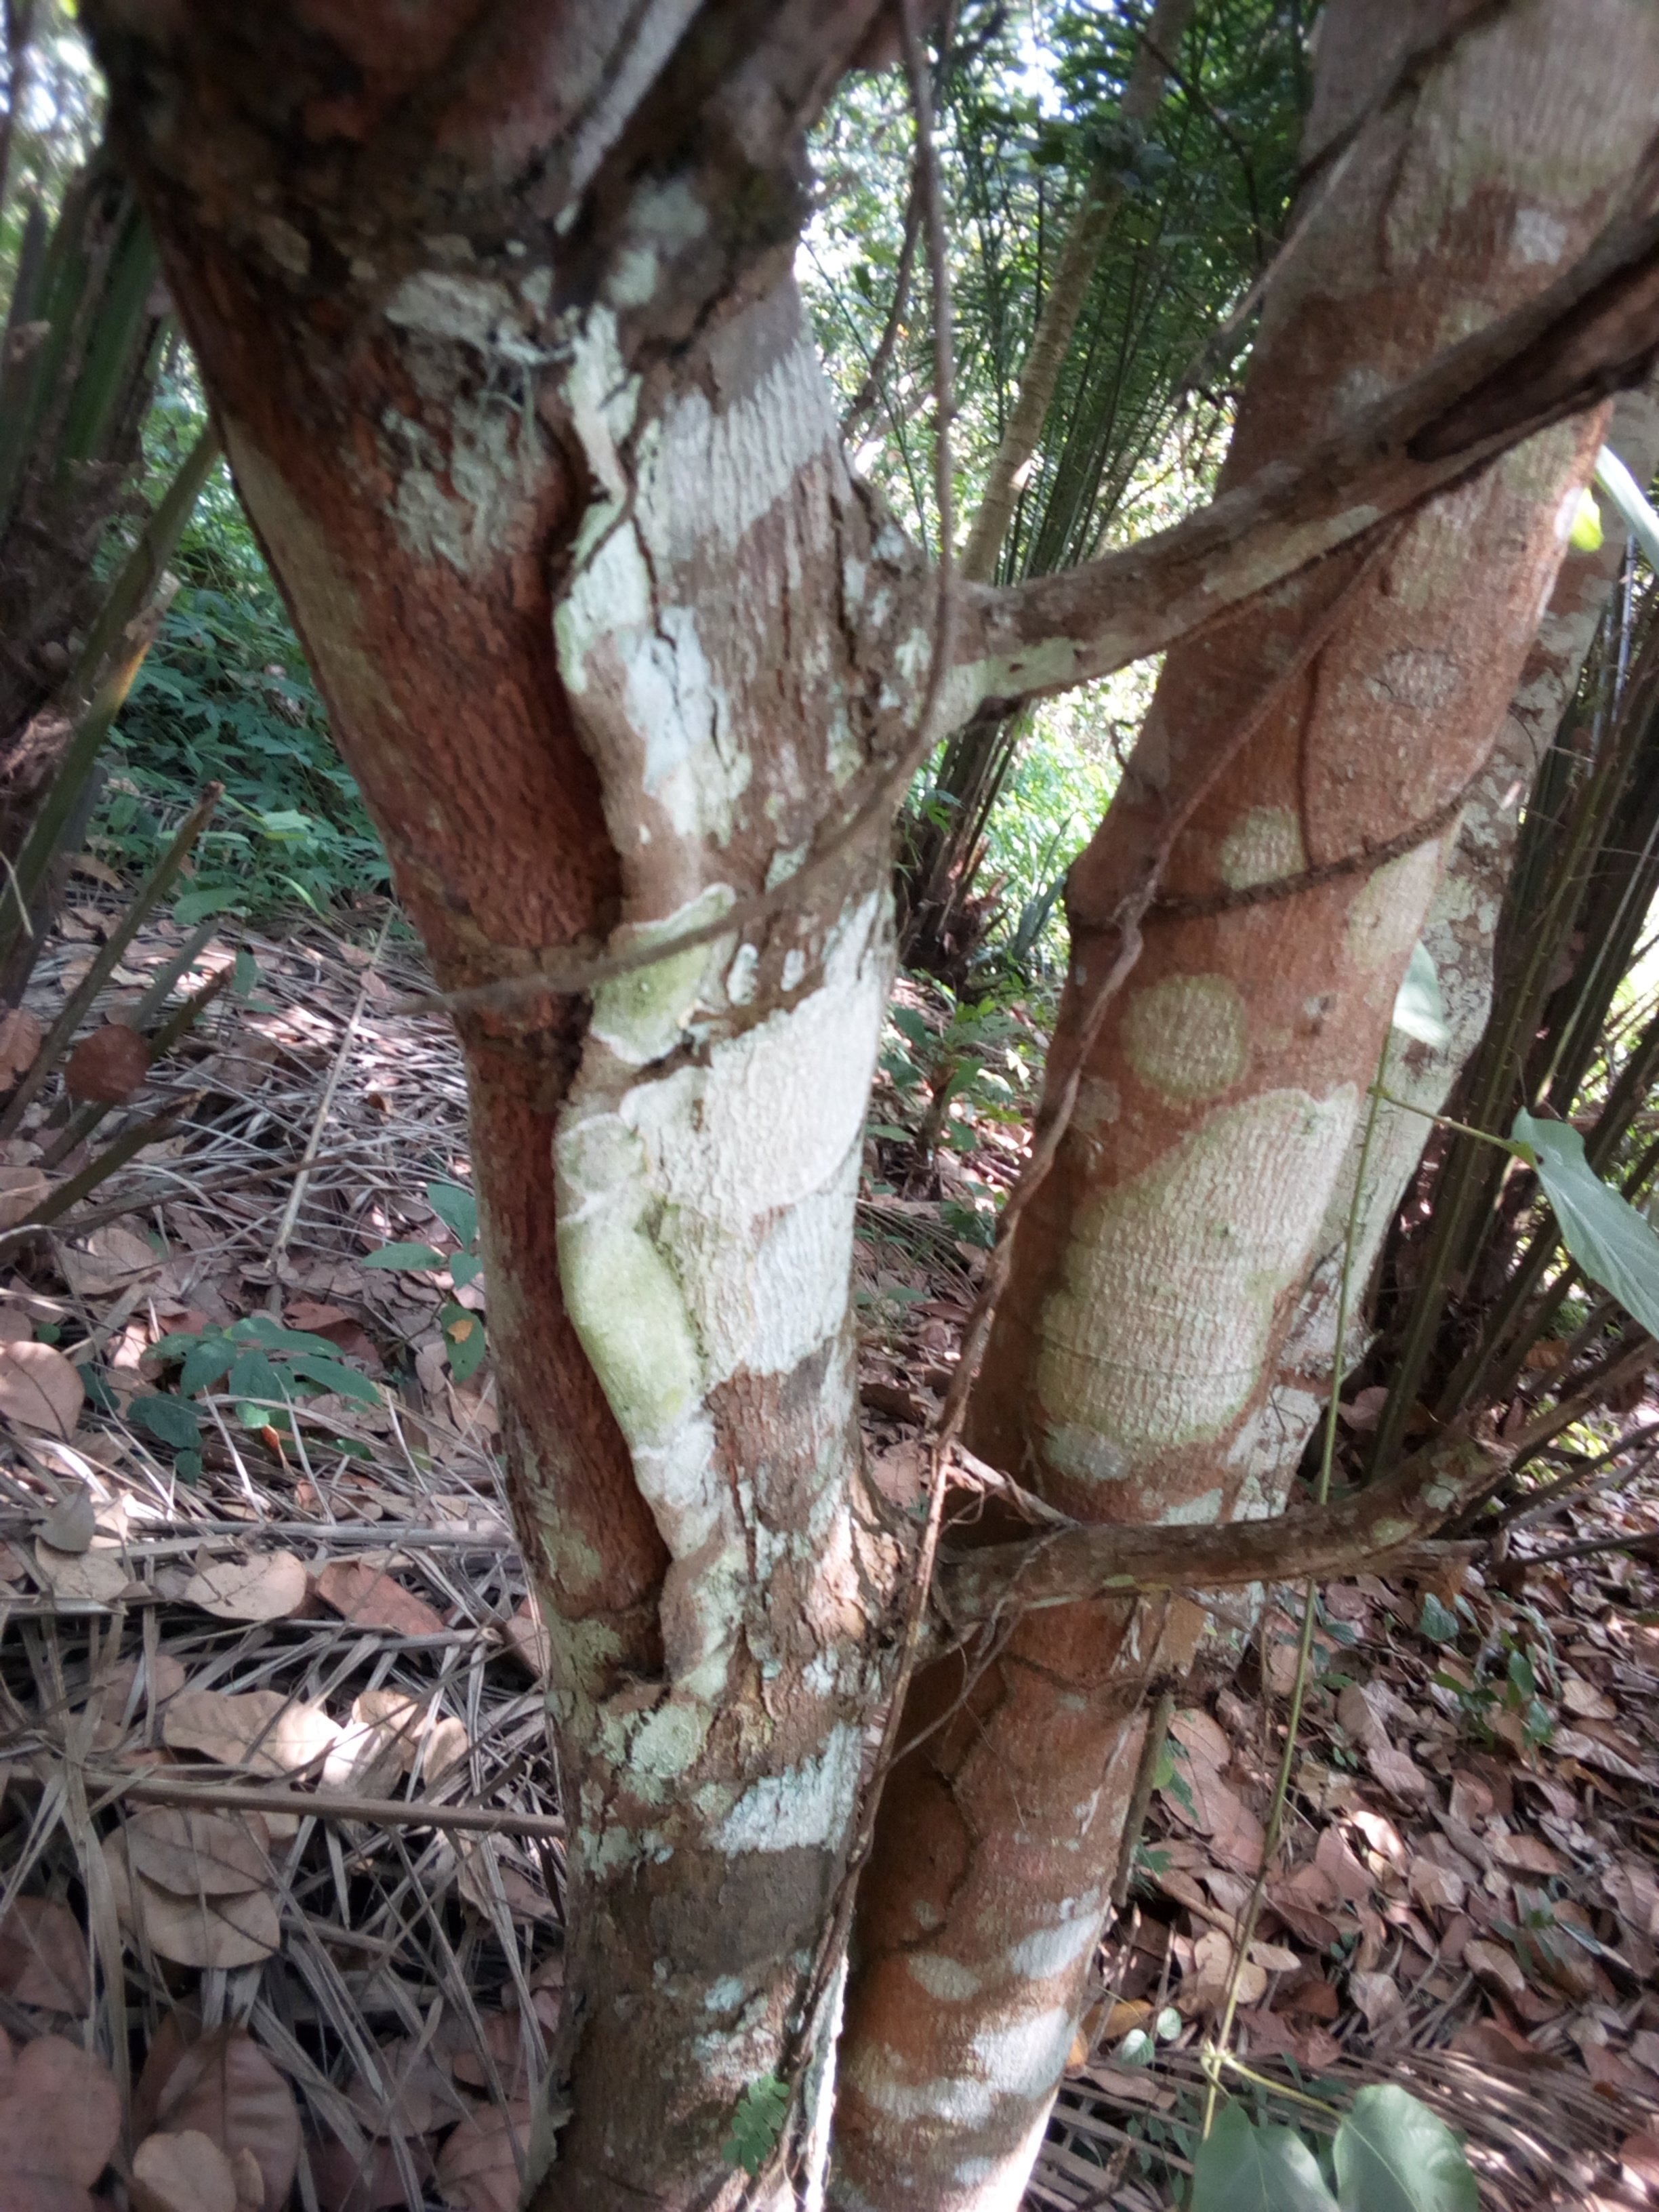Termites: (1110, 808, 1457, 916)
